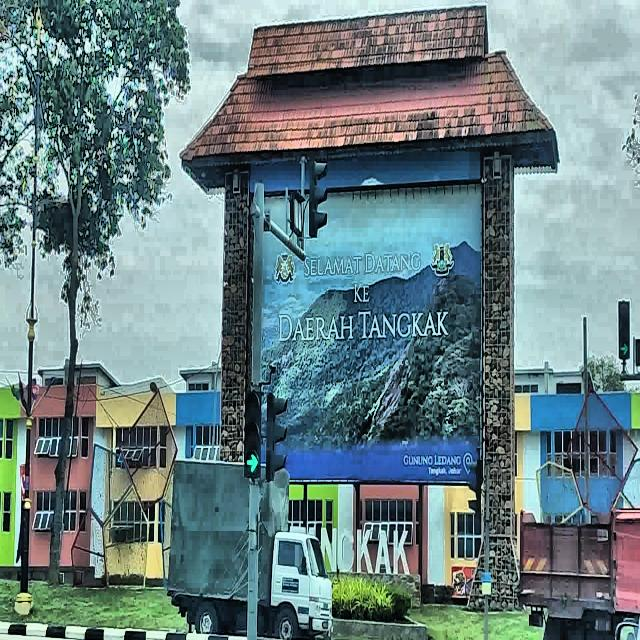green: (244, 392, 261, 477), (618, 301, 630, 359)
